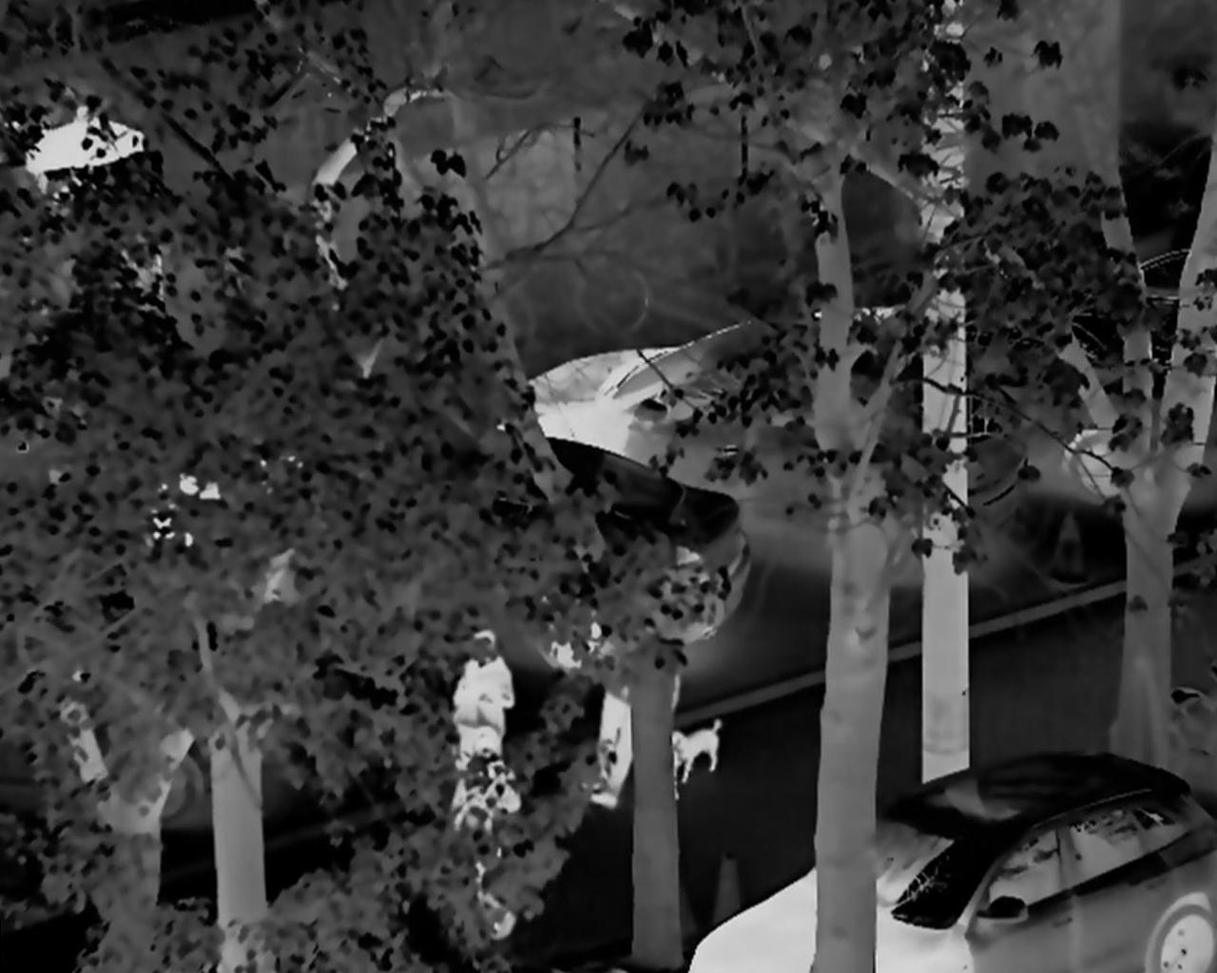person: (451, 752, 543, 948), (591, 627, 676, 817), (436, 623, 516, 809)
